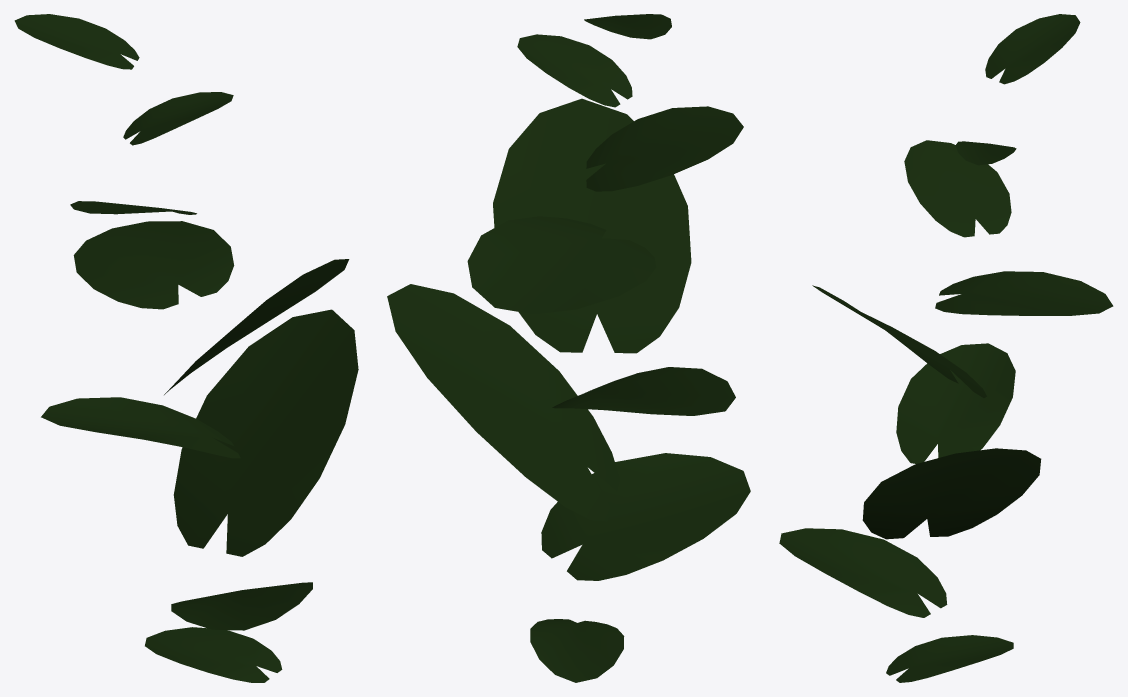
The model's file is weeds_-03-02_foliage.dae.
3 renders of one model, left to right at view 1: azimuth 30°, elevation 25°; view 2: azimuth 150°, elevation 25°; view 3: azimuth 270°, elevation 25°, orthographic. The views are drawn at different scales.
Visible parts, largest first — view 1: weeds_-03-02_foliage; view 2: weeds_-03-02_foliage; view 3: weeds_-03-02_foliage.
Boxes of the visible parts, box(x1,y1,x2,y2) form: weeds_-03-02_foliage: box(14, 14, 358, 682); weeds_-03-02_foliage: box(387, 14, 750, 682); weeds_-03-02_foliage: box(779, 14, 1113, 682).
Bounding box in the file's own units: 0.1041 × 0.108 × 0.2101.
